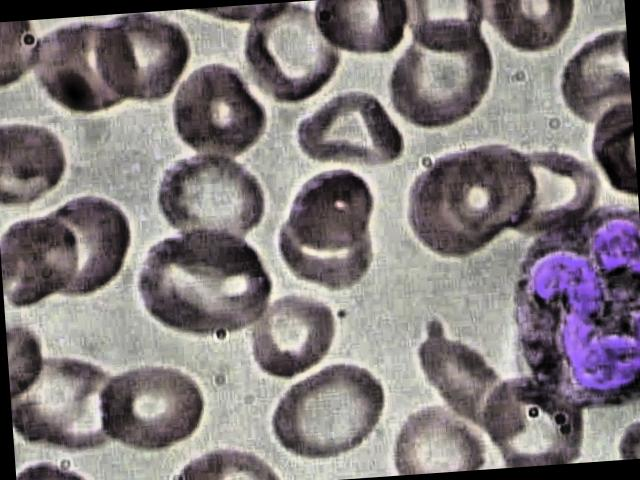RBC: (127, 220, 281, 347), (408, 311, 532, 445), (369, 14, 505, 136), (252, 354, 394, 459), (90, 352, 214, 458), (26, 13, 148, 120), (26, 189, 136, 302), (152, 147, 270, 248), (160, 57, 270, 162), (292, 81, 404, 178), (93, 10, 192, 110), (248, 287, 346, 384), (277, 161, 378, 253)
WBC: (506, 200, 640, 420)
